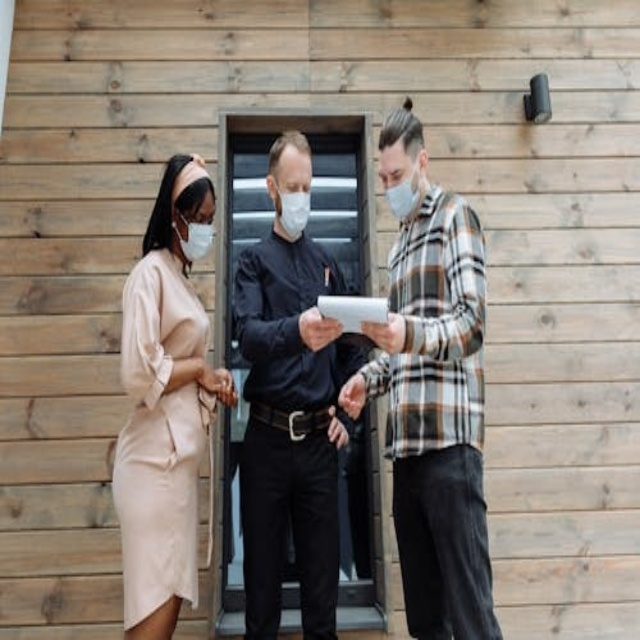Mascara: (383, 161, 423, 220), (273, 181, 312, 237), (176, 209, 215, 261)
Sin_gafas: (377, 156, 414, 186), (278, 171, 314, 198), (188, 206, 214, 225)
Sin_guantes: (359, 310, 407, 356), (299, 305, 341, 353), (337, 369, 367, 416), (199, 365, 235, 404), (327, 409, 350, 451)
